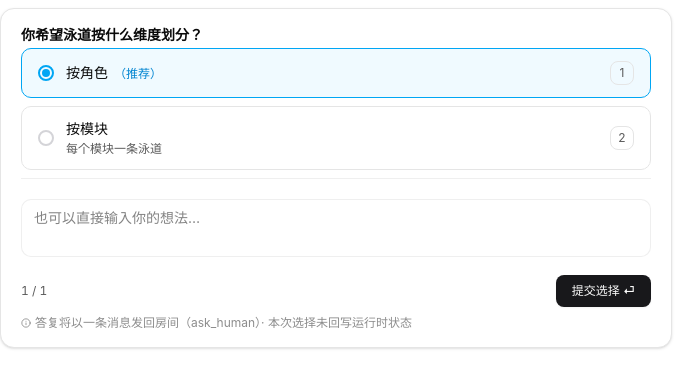
Test: InterventionCard（F2.1 交互契约） › ④ 提交按钮禁用规则：推荐默认选中即可提交；取消选中且无输入则禁用
Expected: the button "提交选择 ⏎" is enabled, [556,275,651,307]
Click the radio button labelled "按角色（推荐） 1" at (87, 73), box [21,48,651,98]
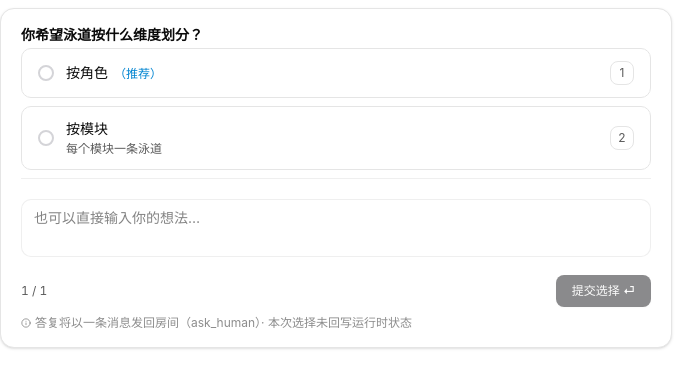
Now the button "提交选择 ⏎" is disabled, box [556,275,651,307]
Type "就这样" into the text box named "自由输入" at (336, 228), box [21,199,651,257]
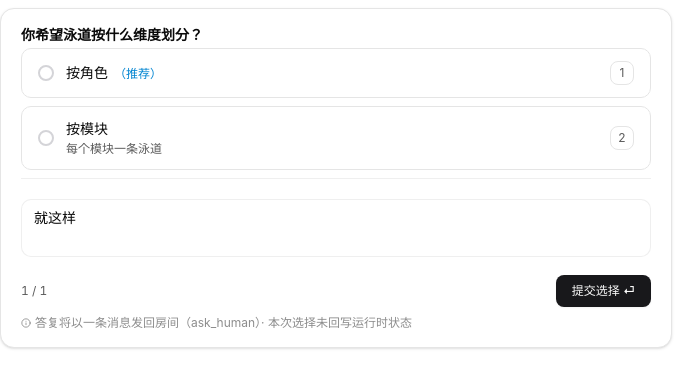
Now the button "提交选择 ⏎" is enabled, box [556,275,651,307]
